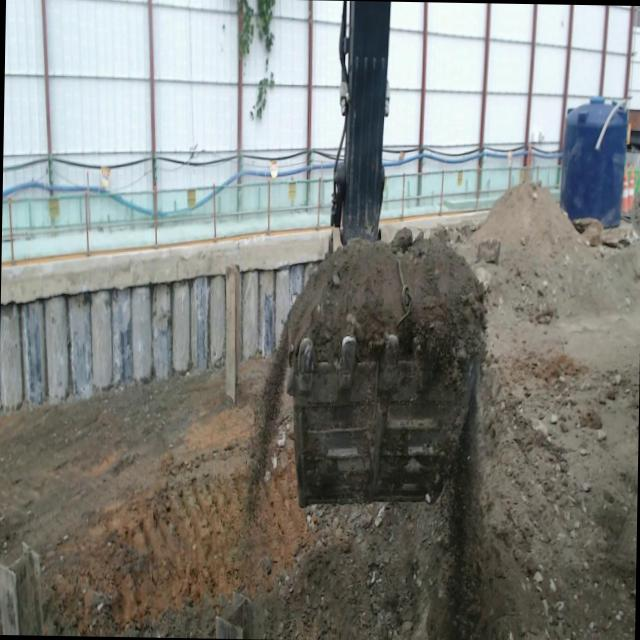cement: (0, 227, 329, 304)
red-sand: (0, 184, 640, 640)
